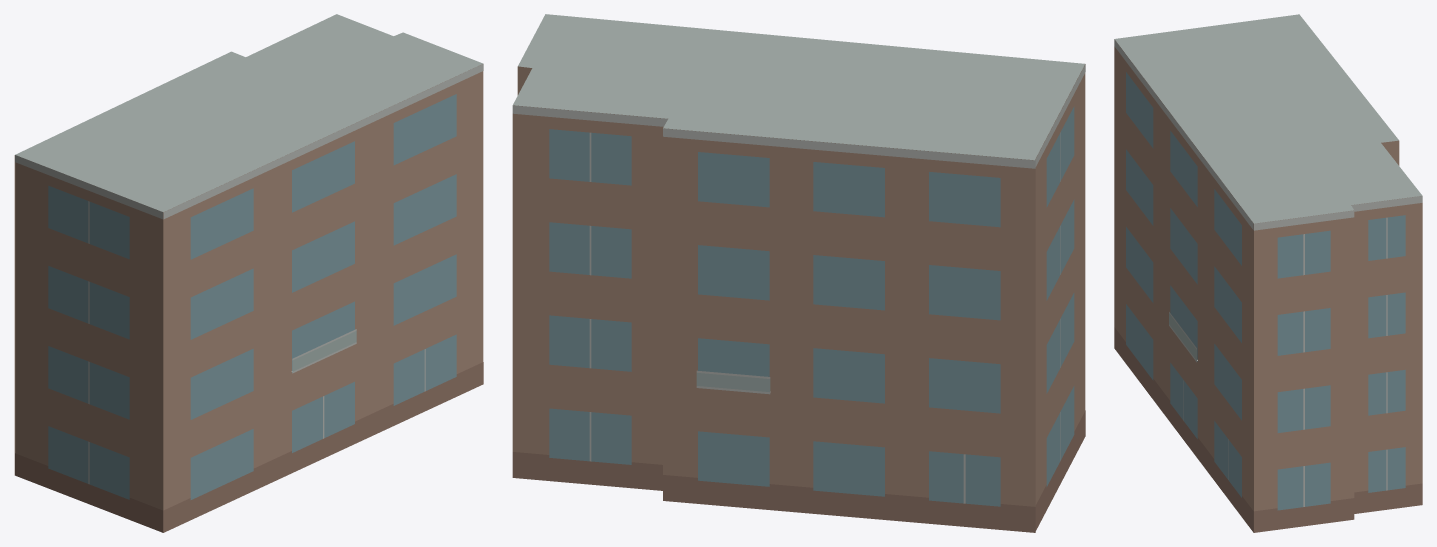
File: survey-upis-32917208.glb
3 renders of one model, left to right at view 1: azimuth 30°, elevation 25°; view 2: azimuth 150°, elevation 25°; view 3: azimuth 270°, elevation 25°, orthographic. The views are drawn at different scales.
Parts seen in each view (by area): view 1: survey-upis-32917208.tmp; view 2: survey-upis-32917208.tmp; view 3: survey-upis-32917208.tmp.
Part boxes in pixels (<box>): survey-upis-32917208.tmp: <box>14,14,483,532</box>; survey-upis-32917208.tmp: <box>512,14,1085,532</box>; survey-upis-32917208.tmp: <box>1114,14,1422,532</box>.
Size of the model in its own units: 15.56 by 10.7 by 9.67.
